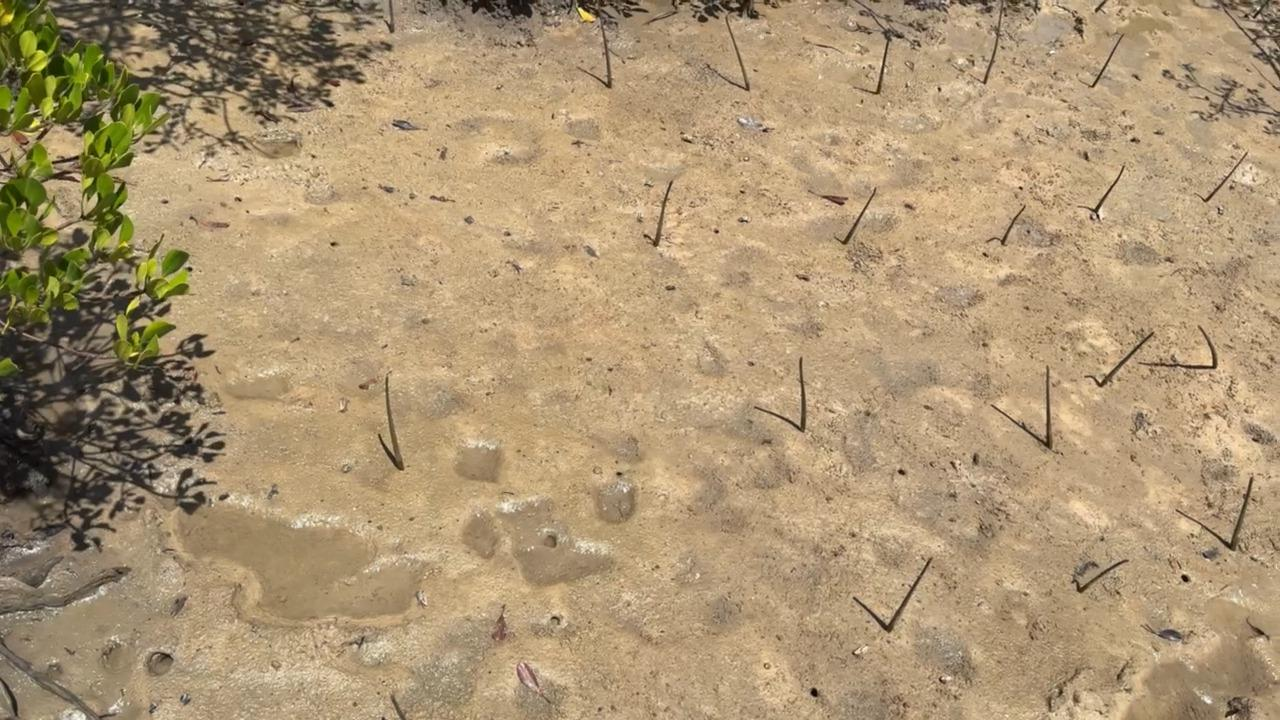Tree: (1084, 332, 1153, 386), (886, 556, 933, 634), (1204, 152, 1248, 204), (842, 186, 877, 244), (383, 373, 404, 469), (1071, 559, 1130, 593), (1091, 32, 1125, 88), (725, 16, 750, 90), (984, 0, 1005, 86), (1231, 476, 1254, 551), (1094, 164, 1125, 213), (596, 0, 612, 87), (654, 180, 674, 247), (1001, 205, 1026, 245), (1197, 324, 1218, 368), (876, 35, 890, 95), (1045, 364, 1053, 449), (799, 355, 807, 432), (390, 694, 408, 720), (386, 0, 395, 33), (1253, 0, 1269, 18)
